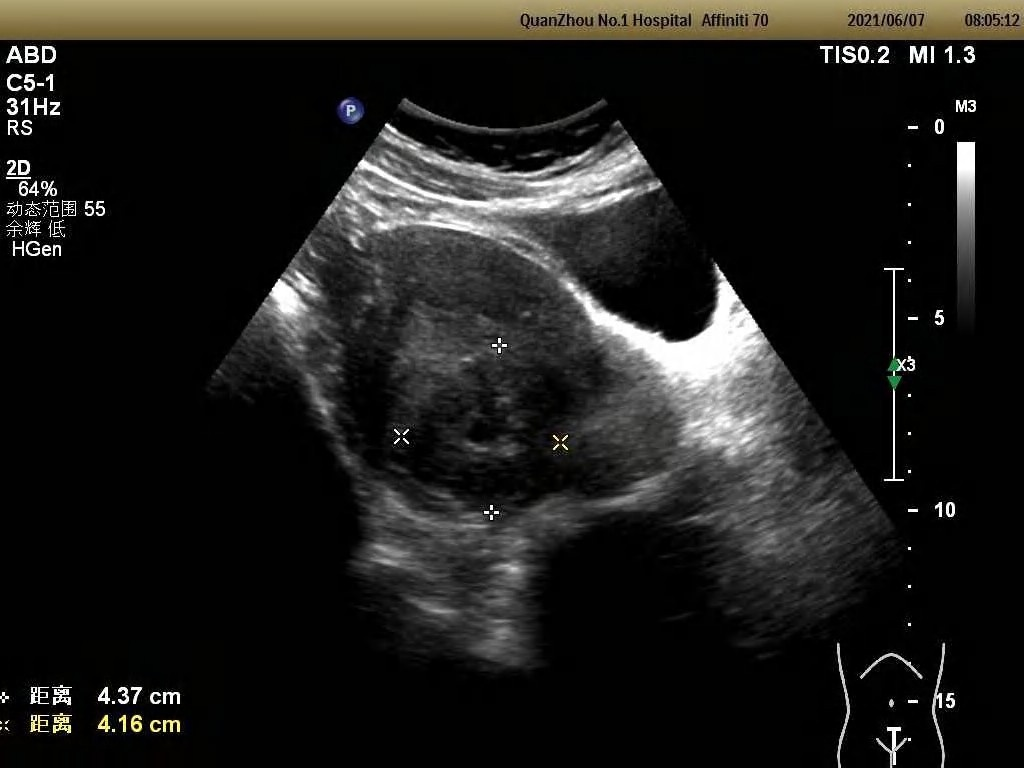肌瘤: (399, 344, 562, 513)
